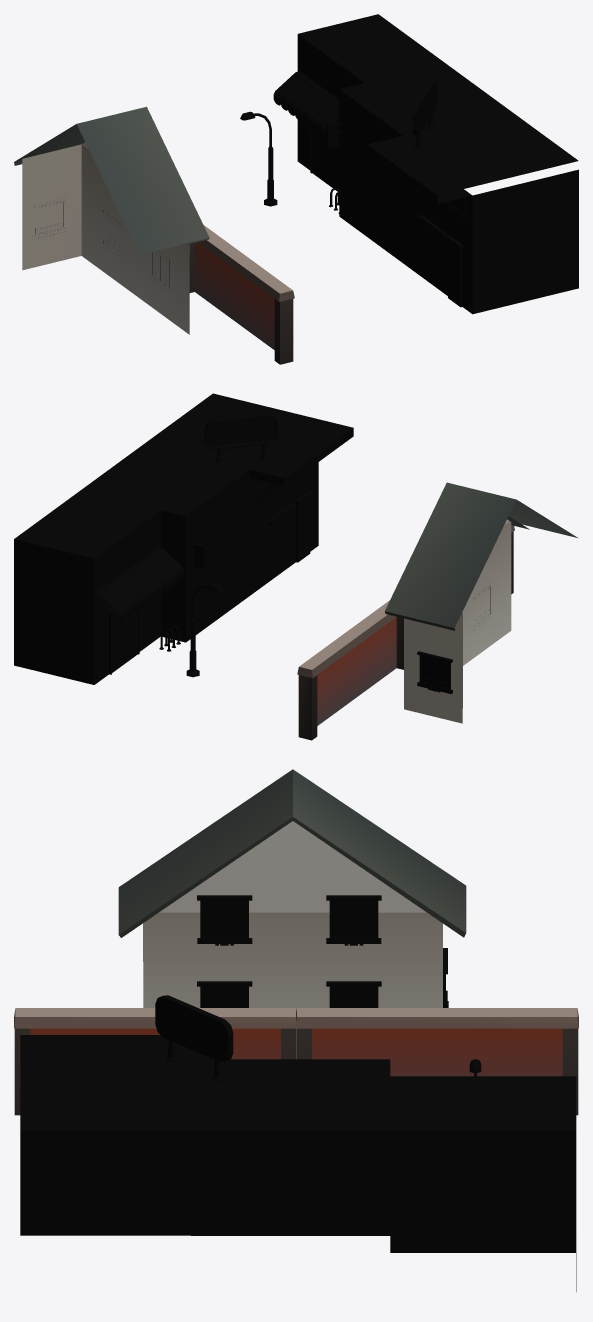
The model's file is SM_ER_module10_walls.fbx.
3 views of the same model, one above another, from view 1: azimuth 30°, elevation 25°; view 2: azimuth 150°, elevation 25°; view 3: azimuth 270°, elevation 25° (orthographic). The views are drawn at different scales.
Parts seen in each view (by area): view 1: SM_ER_module10_walls; view 2: SM_ER_module10_walls; view 3: SM_ER_module10_walls.
Boxes of the visible parts, x1,y1,x2,y2 form: SM_ER_module10_walls: [14, 14, 578, 364]; SM_ER_module10_walls: [14, 393, 578, 740]; SM_ER_module10_walls: [14, 769, 578, 1291].
Size of the model in its own units: 4128 by 1881 by 3604.
